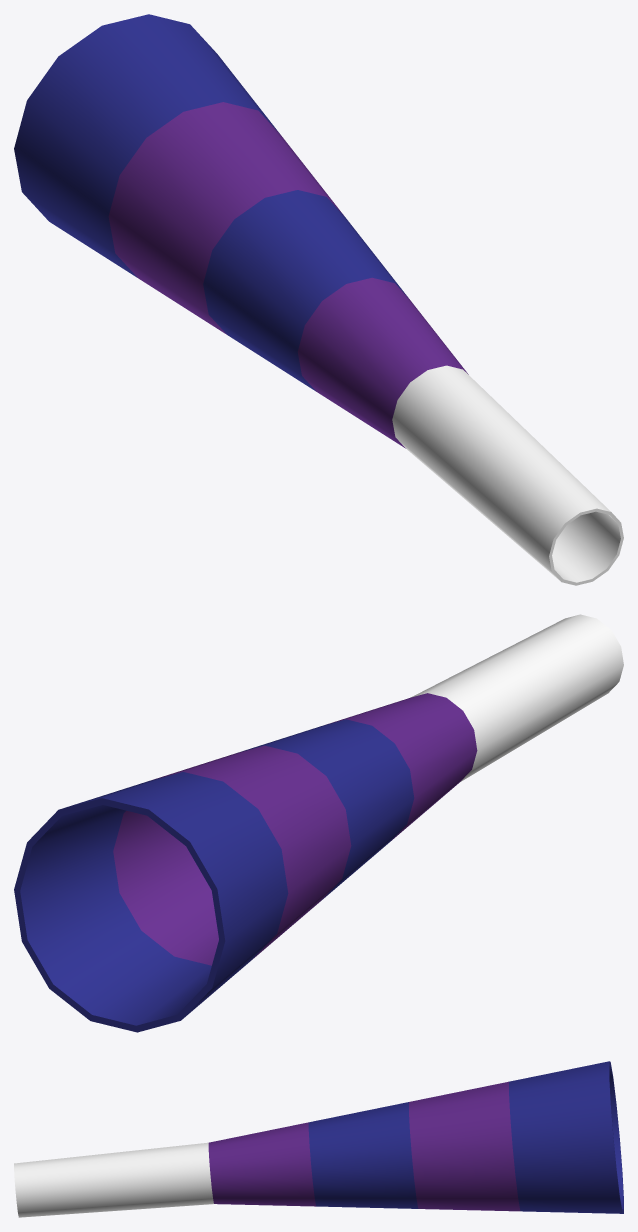
File: MM_NoiseMaker.fbx
The picture shows the model from 3 angles, top to bottom: view 1: azimuth 30°, elevation 25°; view 2: azimuth 150°, elevation 25°; view 3: azimuth 270°, elevation 25°; orthographic projection. The views are drawn at different scales.
Visible parts, largest first — view 1: MM_NoiseMaker; view 2: MM_NoiseMaker; view 3: MM_NoiseMaker.
Part boxes in pixels (x1,y1,x2,y2): MM_NoiseMaker: (14,14,623,585); MM_NoiseMaker: (14,614,623,1032); MM_NoiseMaker: (14,1061,623,1217).
Size of the model in its own units: 14.67 by 15.11 by 57.06.
